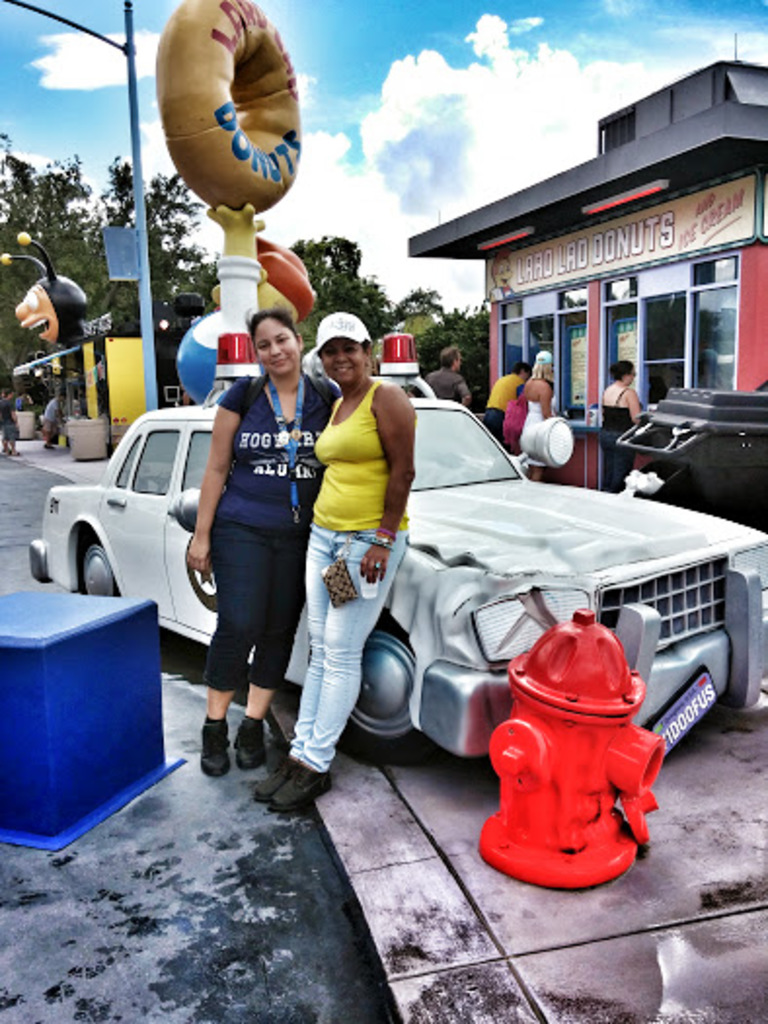Car: (13, 388, 766, 791)
